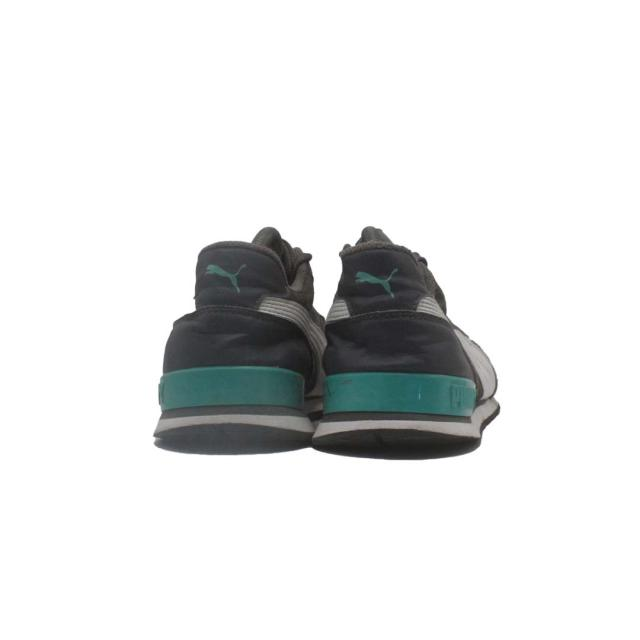heel: (145, 223, 306, 370), (331, 229, 463, 376)
midsole: (153, 372, 502, 456)
